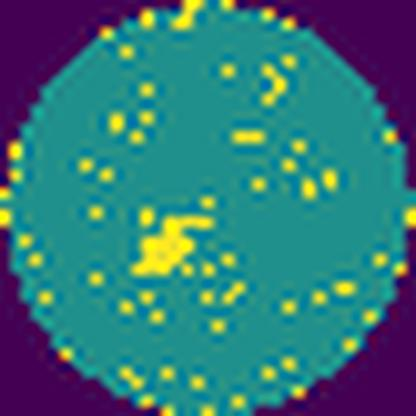Loc: (126, 215, 220, 276)
